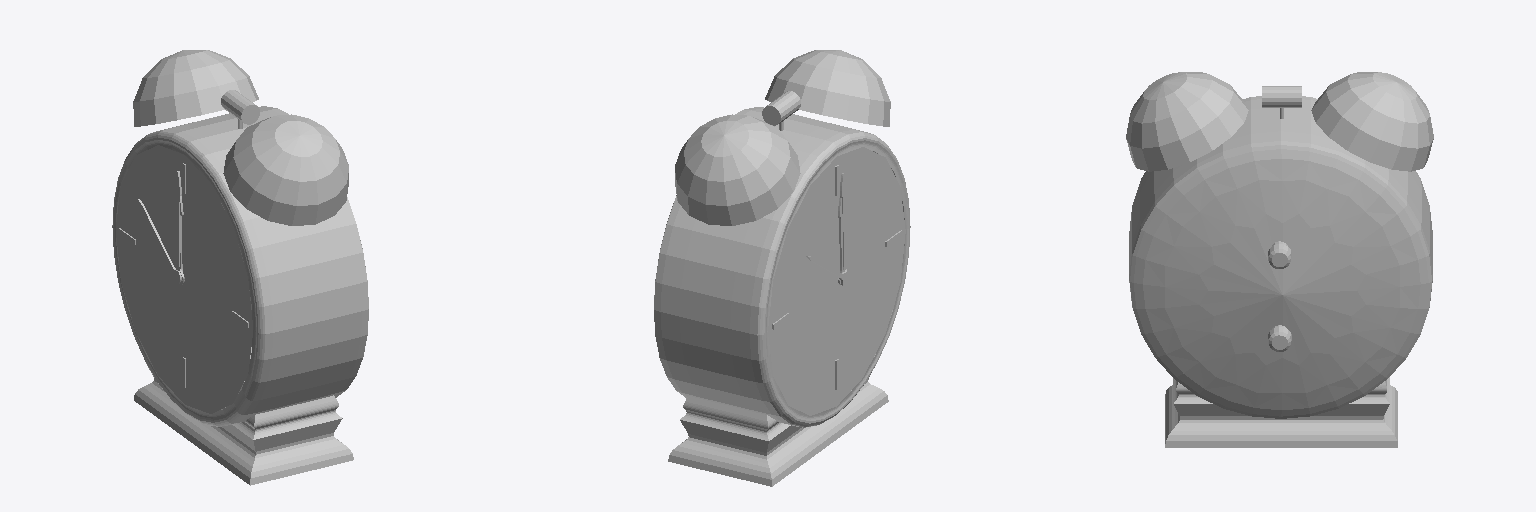
File: alarm_clock.obj
3 renders of one model, left to right at view 1: azimuth 30°, elevation 25°; view 2: azimuth 150°, elevation 25°; view 3: azimuth 270°, elevation 25°, orthographic.
Visible parts, largest first — view 1: Cylinder05, dial, Sphere03, Rectangle03, Sphere02, hammer; view 2: Cylinder05, dial, Sphere02, Rectangle03, Sphere03, hammer; view 3: Cylinder05, Rectangle03, Sphere02, Sphere03, hammer, Cylinder06.
Part boxes in pixels (x1,y1,x2,y2): Cylinder05: (112,106,368,426); dial: (116,145,252,413); Sphere03: (223,114,348,225); Rectangle03: (134,347,353,485); Sphere02: (133,50,258,126); hammer: (221,90,259,128); Cylinder05: (654,107,910,427); dial: (768,147,905,415); Sphere02: (675,114,800,225); Rectangle03: (668,367,888,486); Sphere03: (765,50,890,126); hammer: (762,91,800,130); Cylinder05: (1129,96,1432,418); Rectangle03: (1165,377,1397,447); Sphere02: (1311,72,1433,171); Sphere03: (1126,72,1248,171); hammer: (1262,86,1301,118); Cylinder06: (1268,241,1291,268).
Bounding box in the file's own units: 29.73 × 61.86 × 50.18.